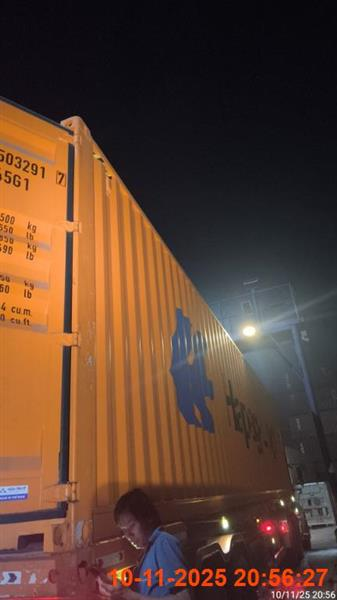broken: (0, 99, 307, 599), (96, 489, 191, 599)
